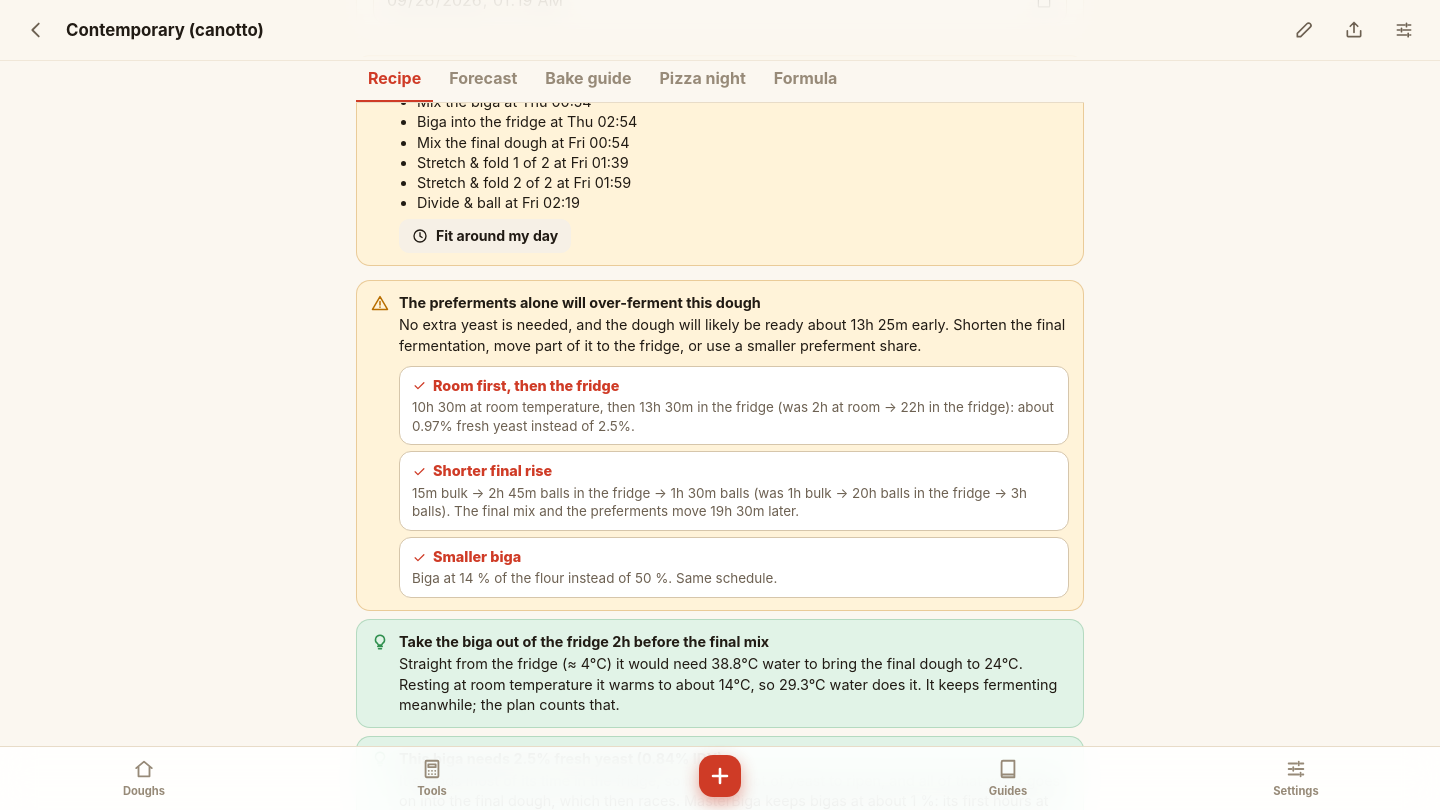
Scenario: fixes and cold preferments › offers one-tap fixes on the recipe and applying one clears the warning
(page scrolled)
Expected: the text "The preferments alone will over-ferment this dough" is shown, [399,294,761,311]
Expected: the button "Smaller biga" is shown, [399,537,1069,598]
Click the button "Room first, then the fridge": (734, 406) [399,366,1069,446]
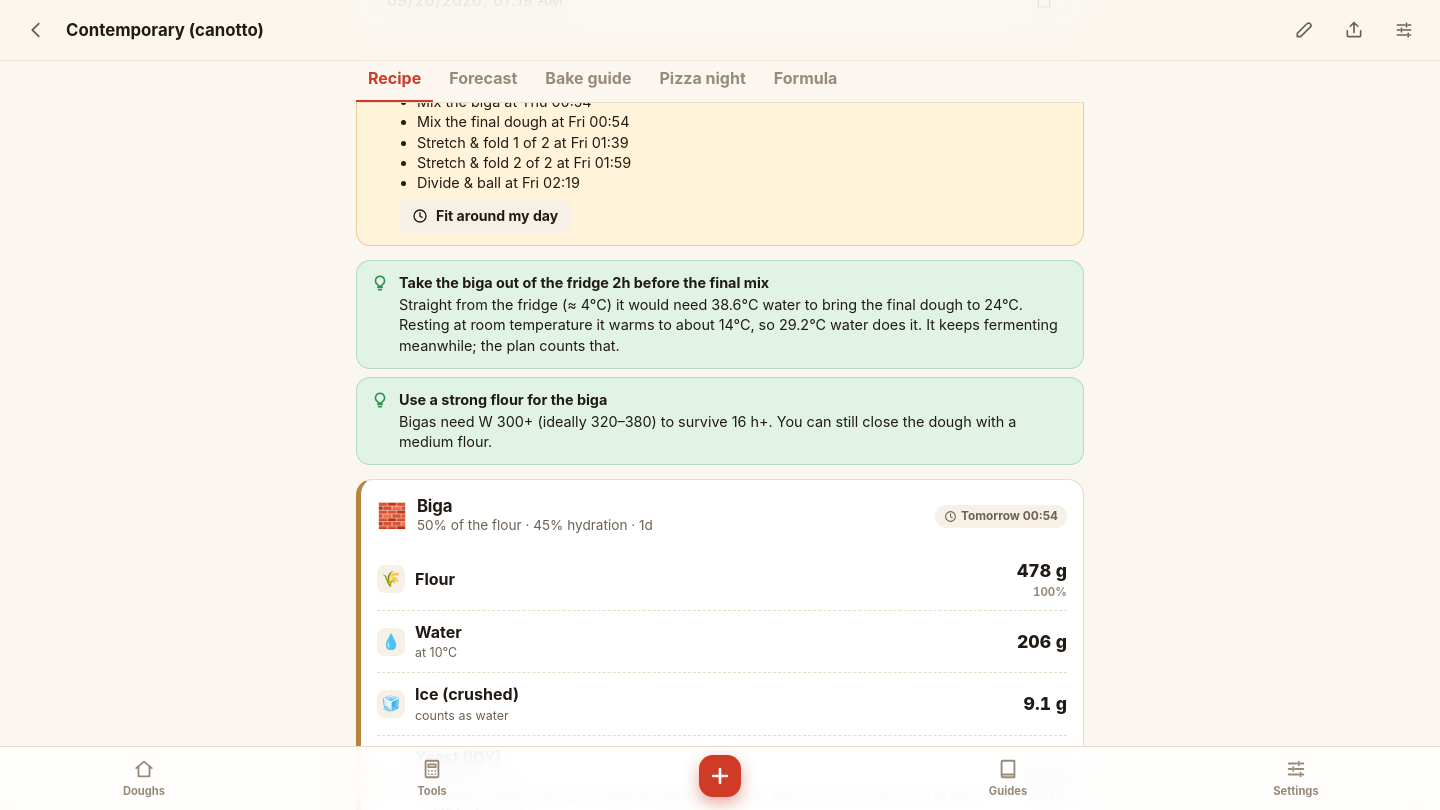
Expected: the text "The preferments alone will over-ferment this dough" is gone
